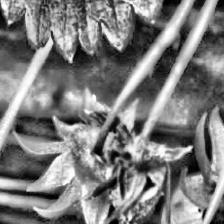Gray Mold: (82, 123, 193, 224)
